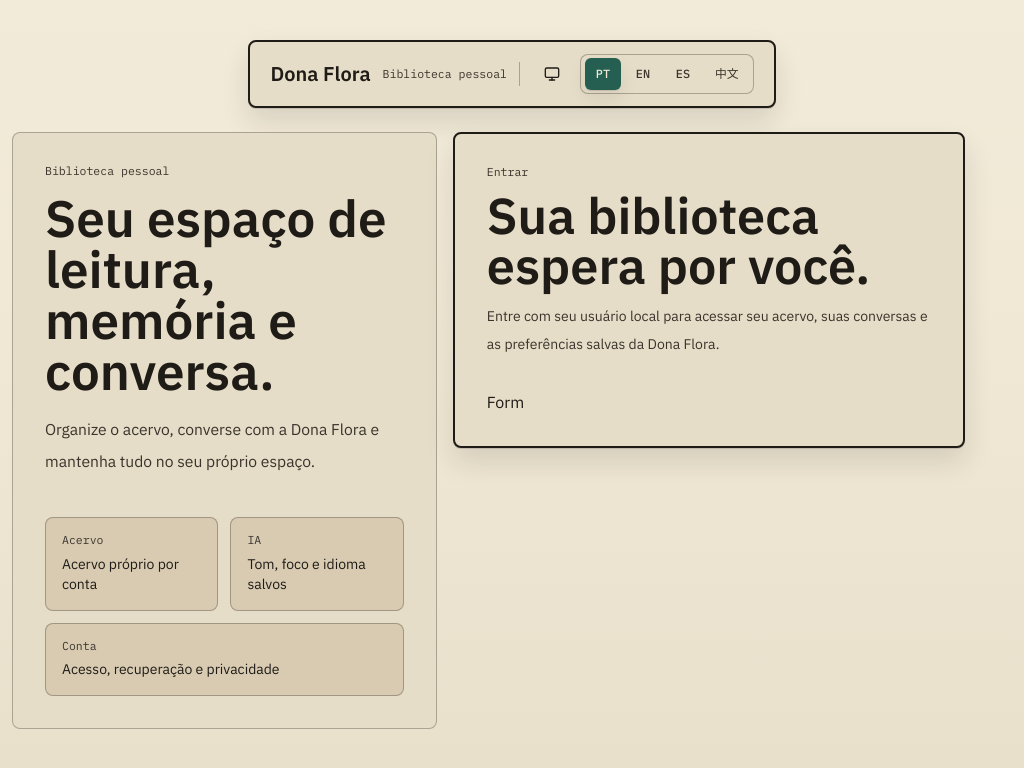
Scenario: AuthShell accessibility controls › switches language locally on auth screens and persists the preference
Click the button "EN". click: (643, 74)
box: [625,58,661,90]
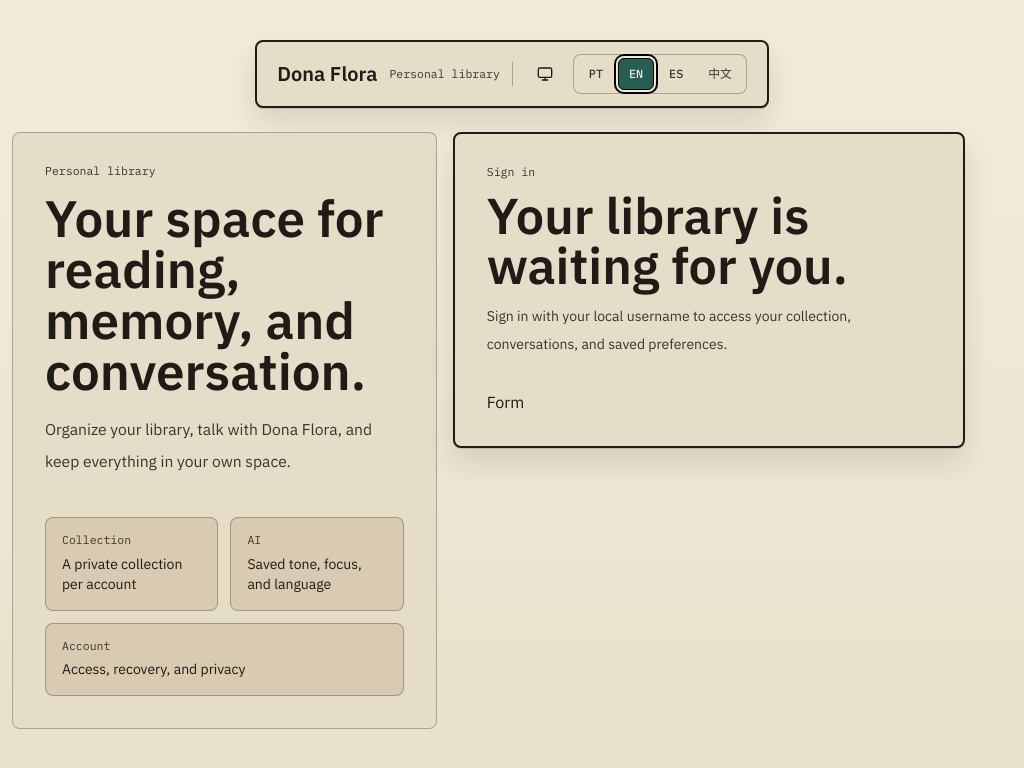
Expected: the element named "App language" is shown, [573,54,747,94]
